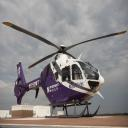helicopter: (3, 23, 128, 118)
